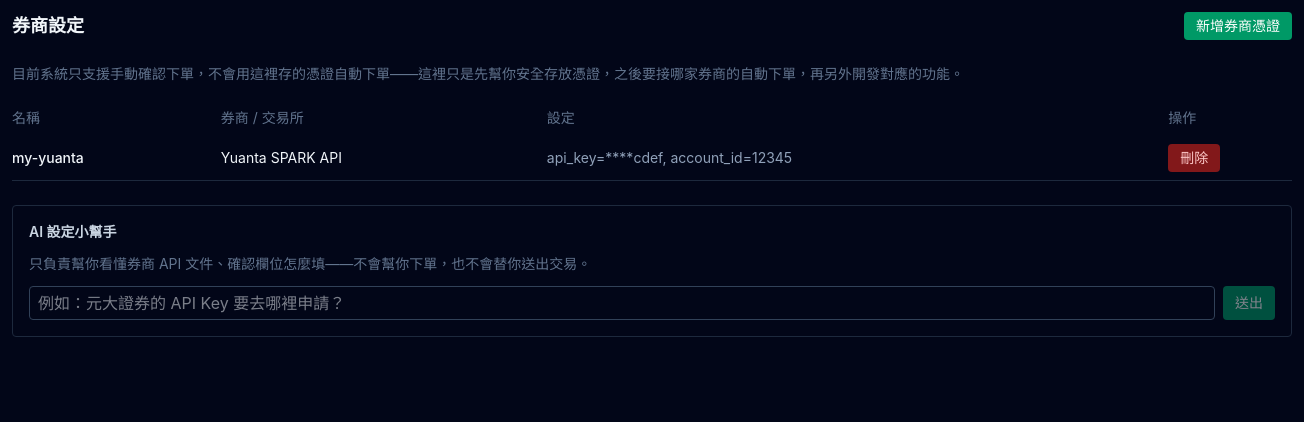
Scenario: BrokerSettingsPage › sends a message to the AI setup assistant and shows the reply
The width and height of the screenshot is (1304, 422).
Type "How do I get an API key?" into the field named "問題" at (622, 303), box [29, 286, 1215, 320]
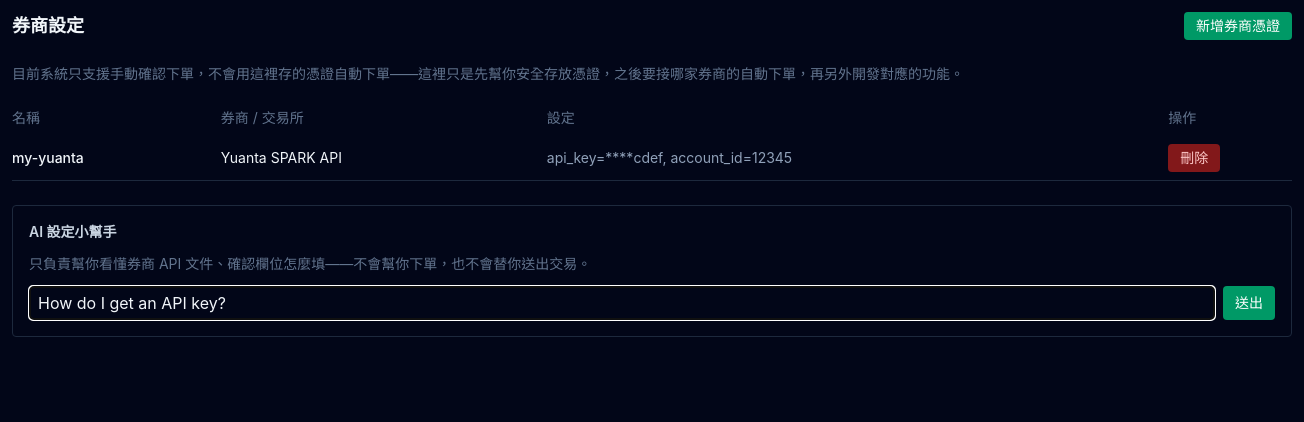
Click the button "送出" at (1249, 303), box [1223, 286, 1275, 320]
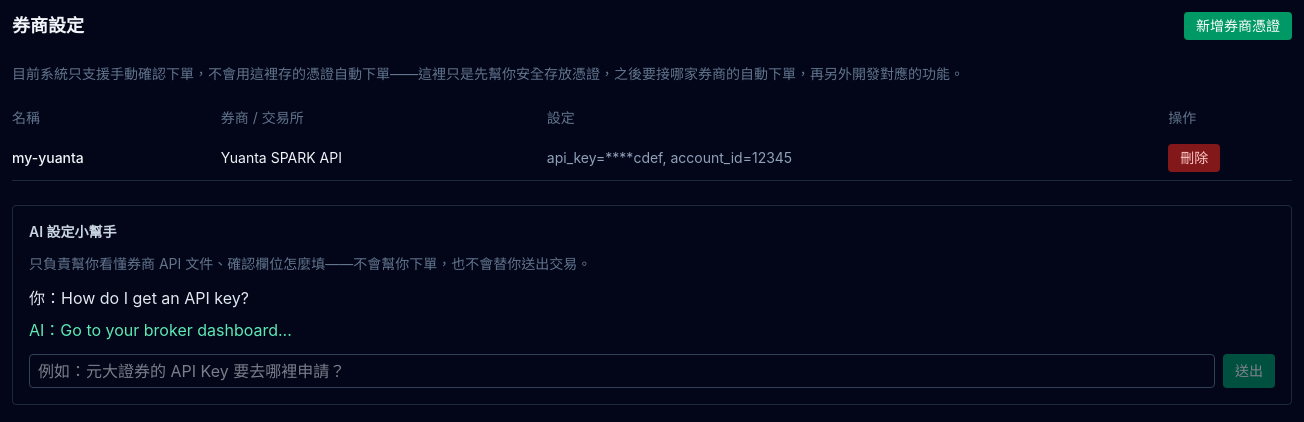
Expected: the text "AI：Go to your broker dashboard..." is shown, [29, 320, 292, 340]
